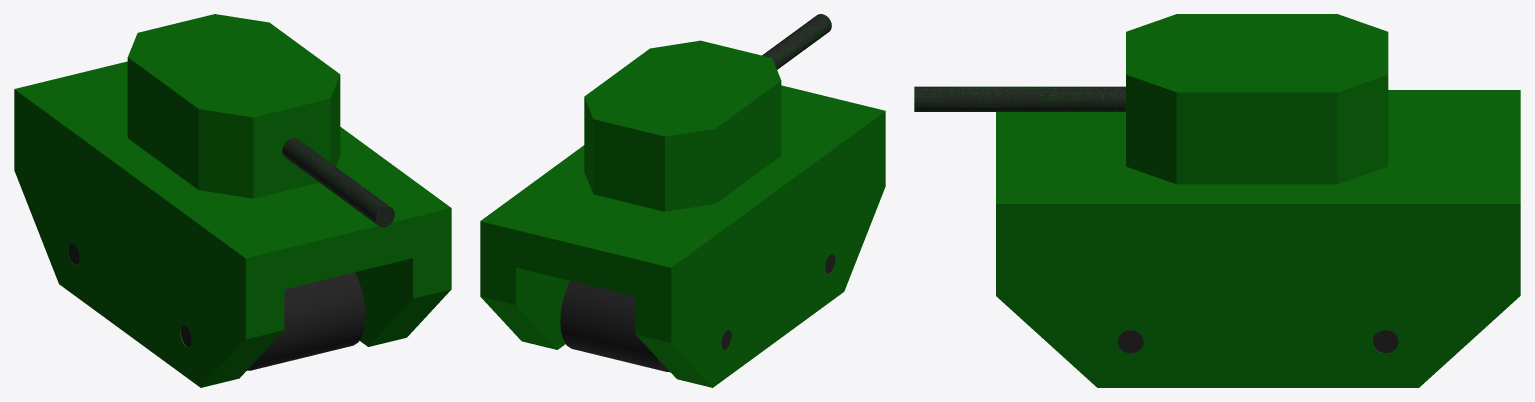
The model's file is tank2.obj.
The picture shows the model from 3 angles, left to right: view 1: azimuth 30°, elevation 25°; view 2: azimuth 150°, elevation 25°; view 3: azimuth 270°, elevation 25°; orthographic projection. The views are drawn at different scales.
Parts seen in each view (by area): view 1: instance_0.002_ID25, instance_1_ID59, instance_3_ID87, instance_1.001_ID67; view 2: instance_0.002_ID25, instance_1_ID59, instance_2_ID87, instance_1.001_ID67; view 3: instance_0.002_ID25, instance_1_ID59, instance_1.001_ID67.
Part boxes in pixels (x1,y1,x2,y2): instance_0.002_ID25: (14, 61, 451, 387); instance_1_ID59: (127, 14, 340, 198); instance_3_ID87: (247, 272, 365, 370); instance_1.001_ID67: (282, 138, 394, 227); instance_0.002_ID25: (480, 85, 885, 387); instance_1_ID59: (584, 40, 781, 211); instance_2_ID87: (560, 281, 669, 372); instance_1.001_ID67: (762, 14, 831, 69); instance_0.002_ID25: (996, 90, 1520, 387); instance_1_ID59: (1126, 14, 1388, 184); instance_1.001_ID67: (914, 86, 1125, 111).
Bounding box in the file's own units: 1.65 × 1.9 × 3.7.
